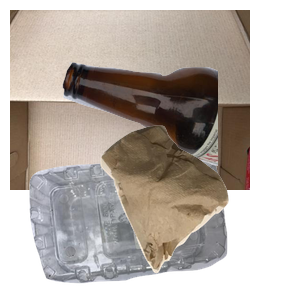cardboard: (10, 10, 250, 190)
glass: (60, 59, 300, 217)
plastic: (27, 152, 247, 300)
trash: (98, 123, 300, 300)
